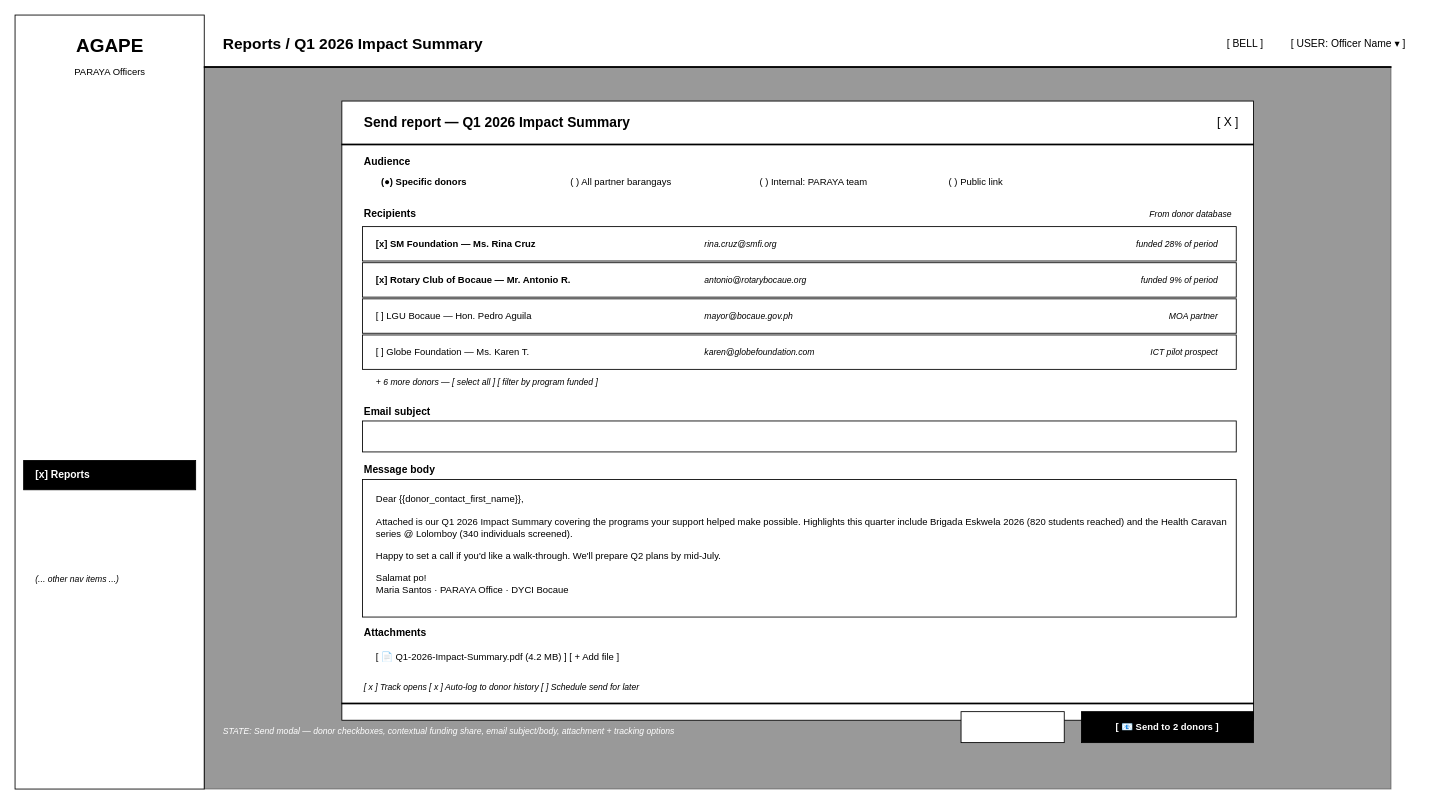
Image size: 1441x804. Some labels were removed from this diagram. Here are the shapes that lost their labels. From the top down, the box of each, then its label:
(362, 420, 1236, 452): PARAYA · Q1 2026 Impact Summary — thank you for your support
(960, 711, 1064, 743): [ Cancel ]
